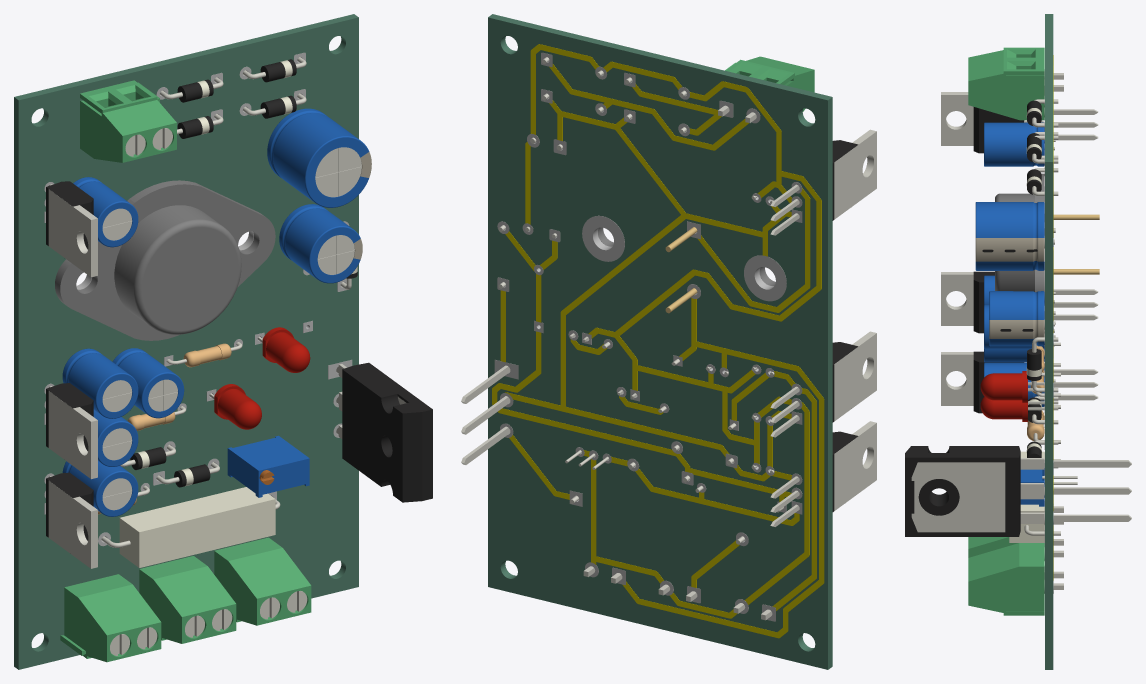
File: power-supply-uniform.glb
3 renders of one model, left to right at view 1: azimuth 30°, elevation 25°; view 2: azimuth 150°, elevation 25°; view 3: azimuth 270°, elevation 25°, orthographic. The views are drawn at different scales.
Parts seen in each view (by area): view 1: =>[0:1:1:30], =>[0:1:1:5] (×4), =>[0:1:1:19], =>[0:1:1:9] (×5), =>[0:1:1:3] (×3), =>[0:1:1:7], =>[0:1:1:23], =>[0:1:1:21], =>[0:1:1:13], =>[0:1:1:11] (×6), =>[0:1:1:25], =>[0:1:1:15] (×2) (+2 smaller); view 2: =>[0:1:1:30], =>[0:1:1:28], =>[0:1:1:3] (×3), =>[0:1:1:29], =>[0:1:1:5], =>[0:1:1:7], =>[0:1:1:19]; view 3: =>[0:1:1:7], =>[0:1:1:5] (×3), =>[0:1:1:3] (×3), =>[0:1:1:30], =>[0:1:1:21], =>[0:1:1:9] (×4), =>[0:1:1:13], =>[0:1:1:11] (×5), =>[0:1:1:15] (×2), =>[0:1:1:19], =>[0:1:1:23], =>[0:1:1:25] (+3 smaller).
Boxes of the visible parts, bbox=[...] form: =>[0:1:1:30]: bbox=[14, 14, 358, 669]; =>[0:1:1:5] (×4): bbox=[60, 80, 311, 662]; =>[0:1:1:19]: bbox=[55, 180, 275, 340]; =>[0:1:1:9] (×5): bbox=[62, 177, 184, 516]; =>[0:1:1:3] (×3): bbox=[46, 181, 97, 568]; =>[0:1:1:7]: bbox=[336, 362, 432, 502]; =>[0:1:1:23]: bbox=[101, 487, 280, 567]; =>[0:1:1:21]: bbox=[267, 108, 371, 207]; =>[0:1:1:13]: bbox=[279, 204, 362, 283]; =>[0:1:1:11] (×6): bbox=[120, 57, 306, 487]; =>[0:1:1:25]: bbox=[227, 435, 309, 497]; =>[0:1:1:15] (×2): bbox=[209, 327, 310, 429]; =>[0:1:1:30]: bbox=[488, 14, 832, 669]; =>[0:1:1:28]: bbox=[492, 44, 824, 638]; =>[0:1:1:3] (×3): bbox=[770, 129, 876, 526]; =>[0:1:1:29]: bbox=[494, 52, 802, 621]; =>[0:1:1:5]: bbox=[718, 56, 814, 122]; =>[0:1:1:7]: bbox=[461, 365, 510, 464]; =>[0:1:1:19]: bbox=[598, 227, 775, 313]; =>[0:1:1:7]: bbox=[905, 446, 1131, 536]; =>[0:1:1:5] (×3): bbox=[968, 47, 1063, 615]; =>[0:1:1:3] (×3): bbox=[941, 92, 1098, 413]; =>[0:1:1:30]: bbox=[1045, 14, 1053, 669]; =>[0:1:1:21]: bbox=[975, 202, 1055, 270]; =>[0:1:1:9] (×4): bbox=[984, 122, 1055, 406]; =>[0:1:1:13]: bbox=[989, 291, 1055, 346]; =>[0:1:1:11] (×5): bbox=[1026, 99, 1058, 424]; =>[0:1:1:15] (×2): bbox=[980, 371, 1058, 421]; =>[0:1:1:19]: bbox=[995, 173, 1099, 292]; =>[0:1:1:23]: bbox=[1009, 451, 1060, 542]; =>[0:1:1:25]: bbox=[1020, 468, 1077, 506].
Size of the model in its own units: 0.0635 by 0.1016 by 0.0411.
